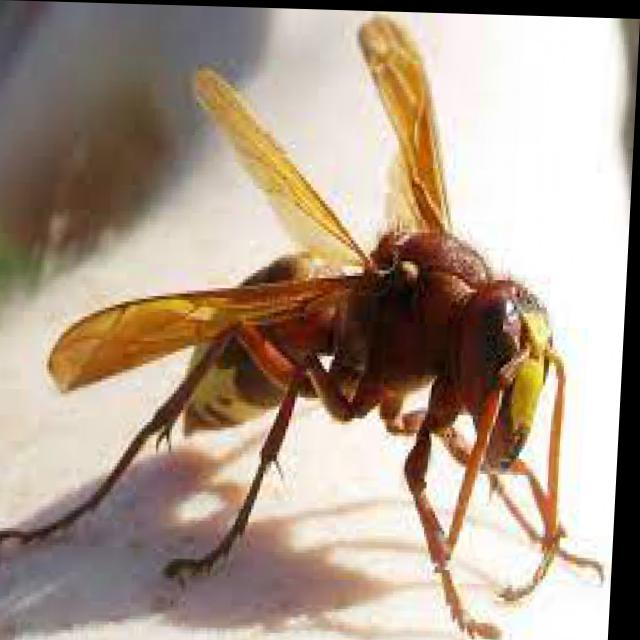Vespa Orientalis: (0, 3, 638, 639)
